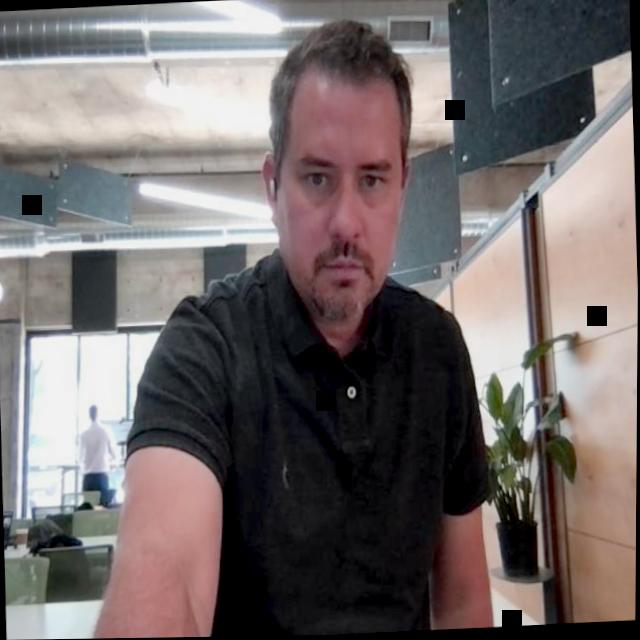NO-Mask: (253, 15, 420, 325)
